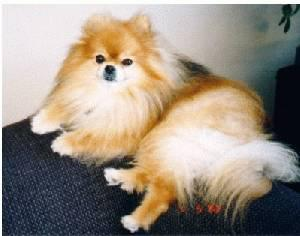dog-pomeranian: (81, 11, 148, 86)
